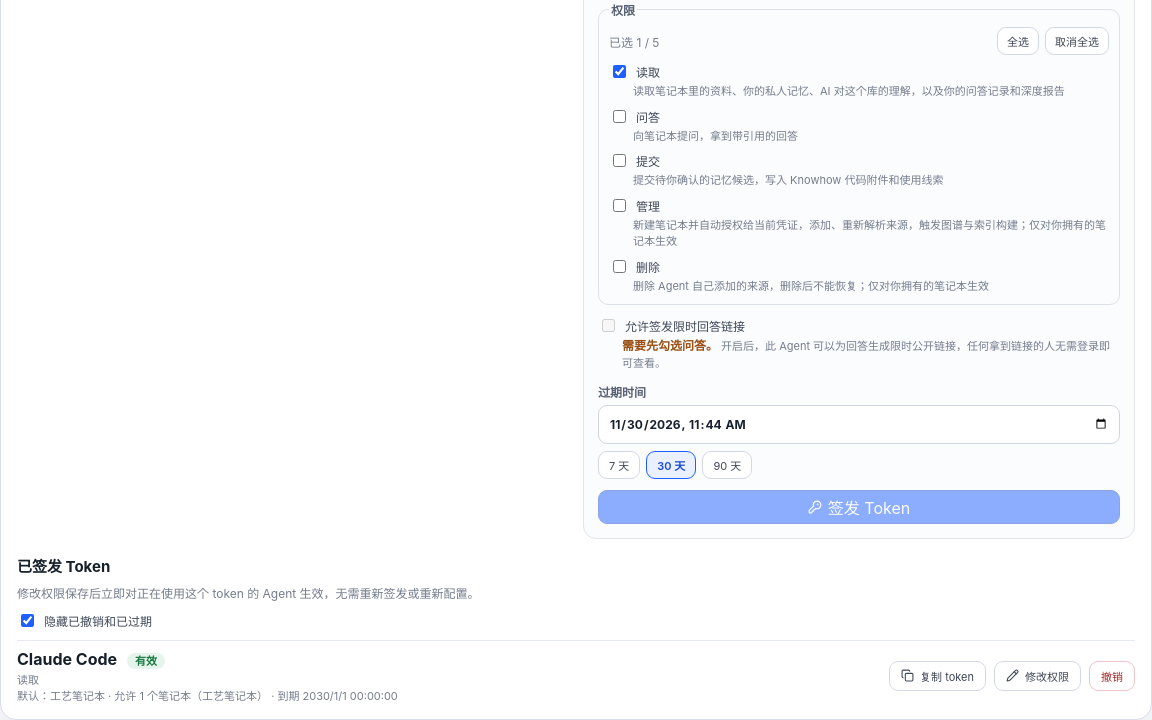
Test case: 撤销要在行内再确认一次,放弃则什么都不发
(page scrolled)
Expected: the text "Claude Code" is shown, [17, 648, 117, 668]
Click the button "撤销".
click(1112, 676)  # box [1089, 660, 1135, 690]
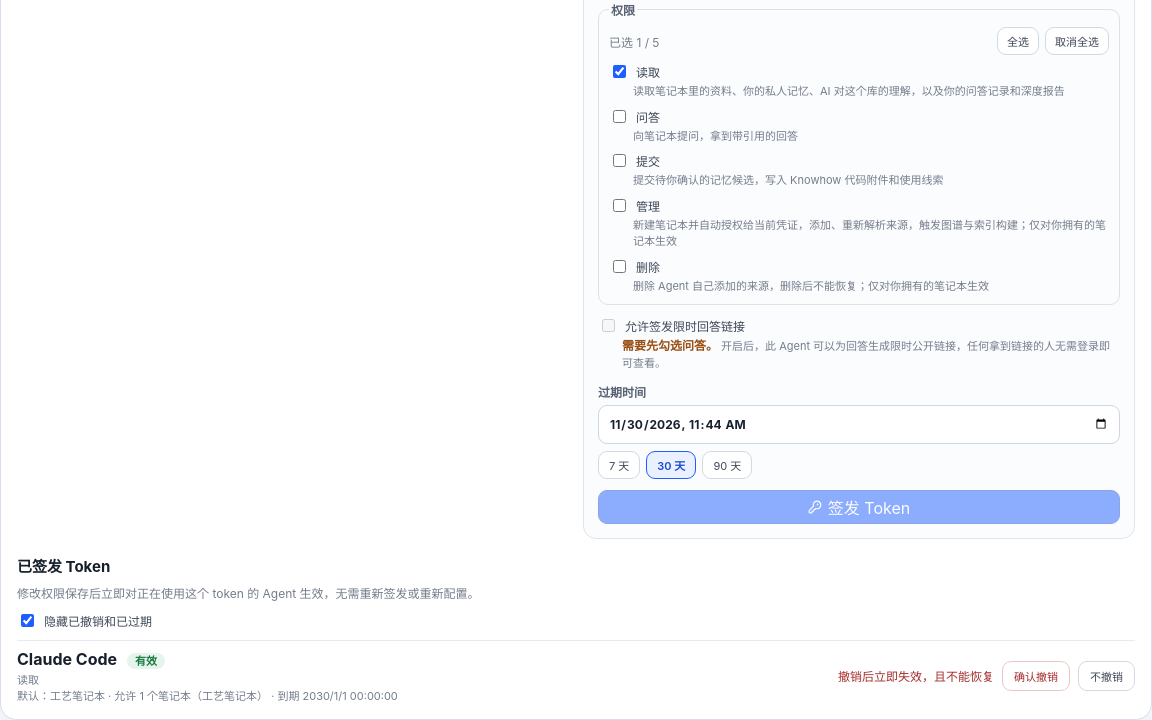
Expected: the text "Claude Code" is shown, [17, 648, 117, 668]
Result: the text "Claude Code" shows "撤销后立即失效，且不能恢复" at [838, 669, 994, 684]
Click the button "不撤销".
click(1106, 676)  # box [1078, 660, 1135, 690]
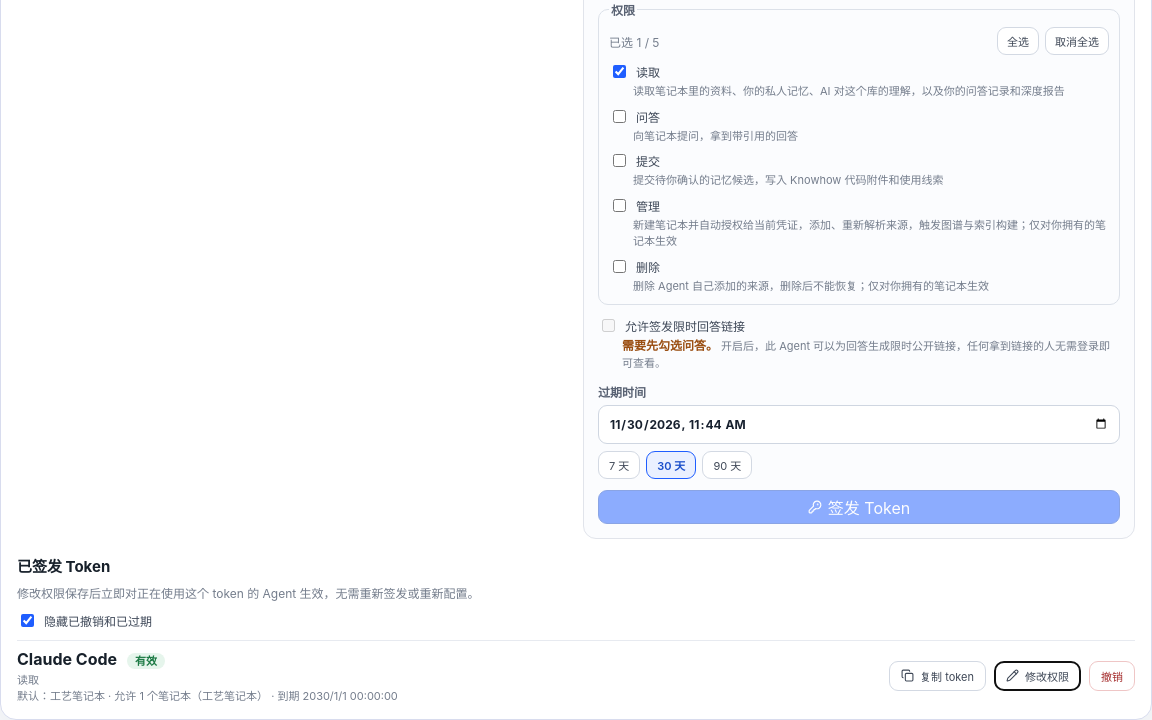
Expected: the text "Claude Code" is shown, [17, 648, 117, 668]
Result: the button "修改权限" is shown at [994, 660, 1081, 690]
Click the button "撤销".
click(1112, 676)  # box [1089, 660, 1135, 690]
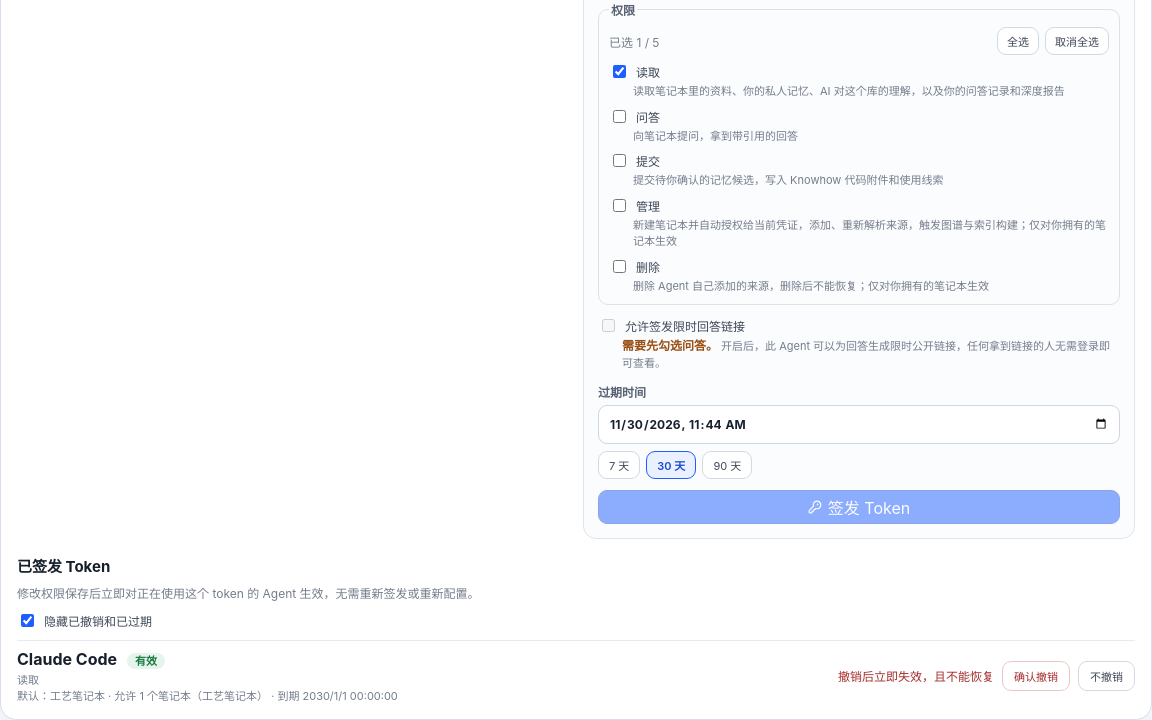
Expected: the text "Claude Code" is shown, [17, 648, 117, 668]
Click the button "确认撤销".
click(1036, 676)  # box [1002, 660, 1070, 690]
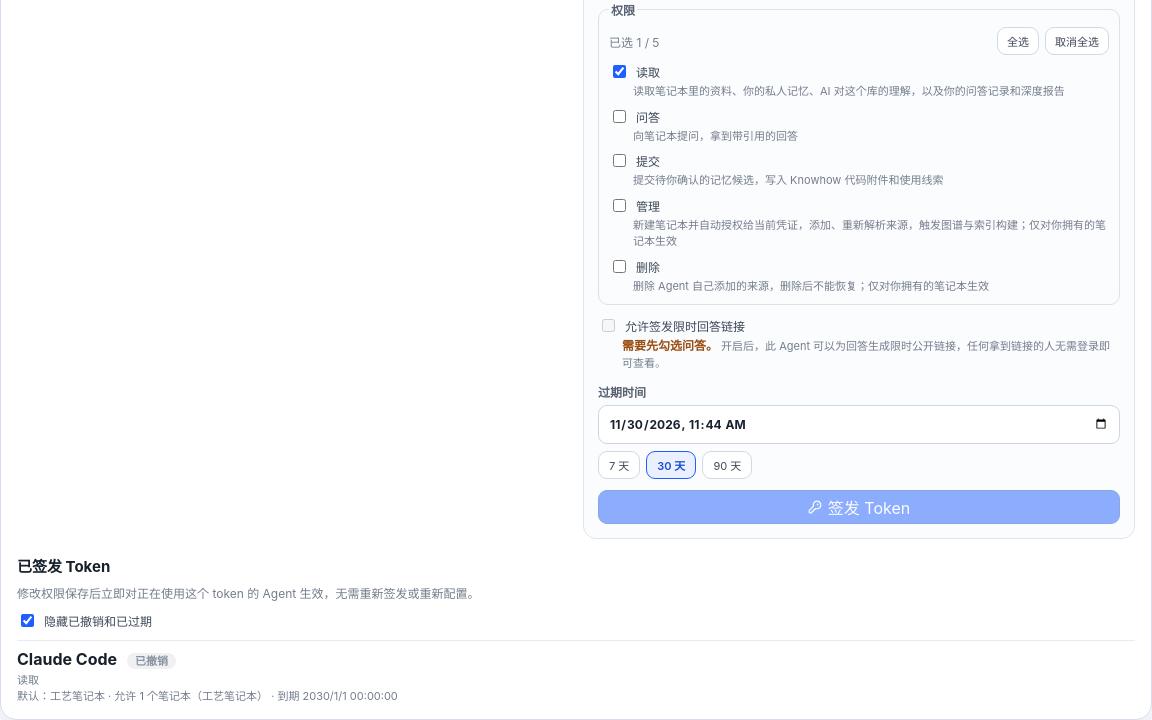
Expected: the text "Claude Code" is shown, [17, 648, 117, 668]
Result: the text "已撤销" is shown at [127, 652, 176, 668]
